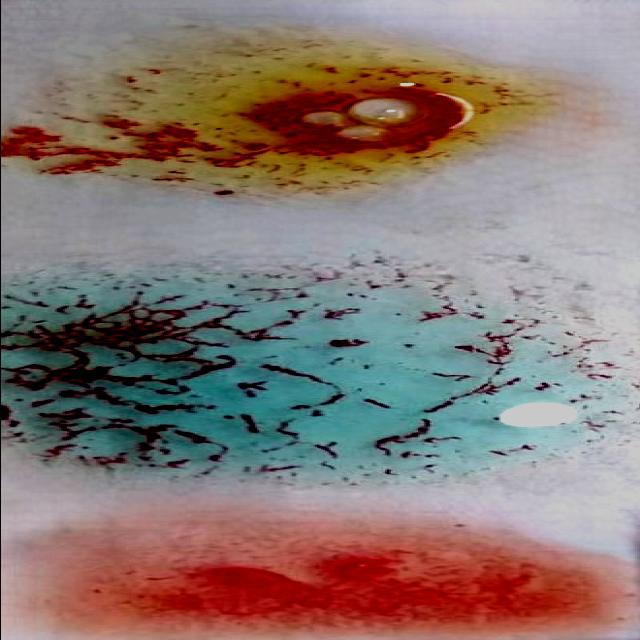A: (0, 272, 631, 476)
B: (0, 41, 555, 206)
D: (0, 523, 636, 640)
